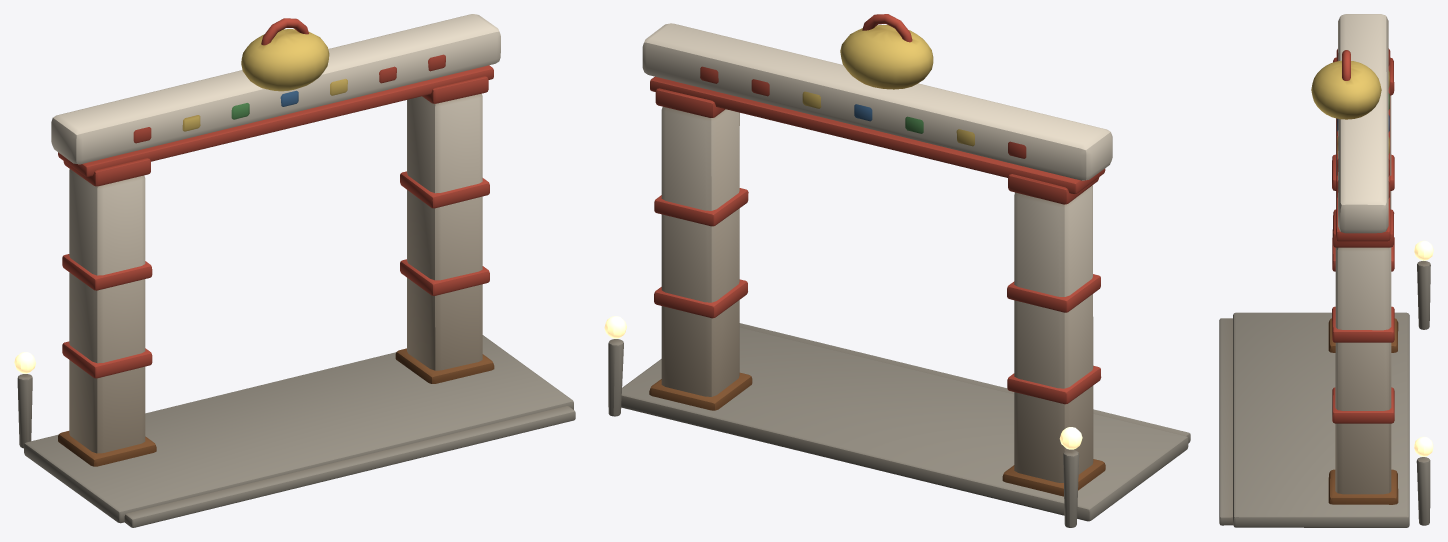
3 renders of one model, left to right at view 1: azimuth 30°, elevation 25°; view 2: azimuth 150°, elevation 25°; view 3: azimuth 270°, elevation 25°, orthographic. The views are drawn at different scales.
Parts seen in each view (by area): view 1: gate_b45f20ad; view 2: gate_b45f20ad; view 3: gate_b45f20ad.
Part boxes in pixels (bbox=[...]): gate_b45f20ad: bbox=[14, 14, 575, 527]; gate_b45f20ad: bbox=[604, 14, 1190, 527]; gate_b45f20ad: bbox=[1219, 14, 1433, 527].
Size of the model in its own units: 5.77 by 4.91 by 2.54.
